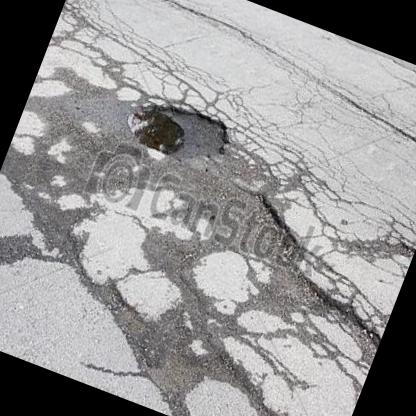pothole: (114, 80, 238, 176), (240, 188, 314, 249)
